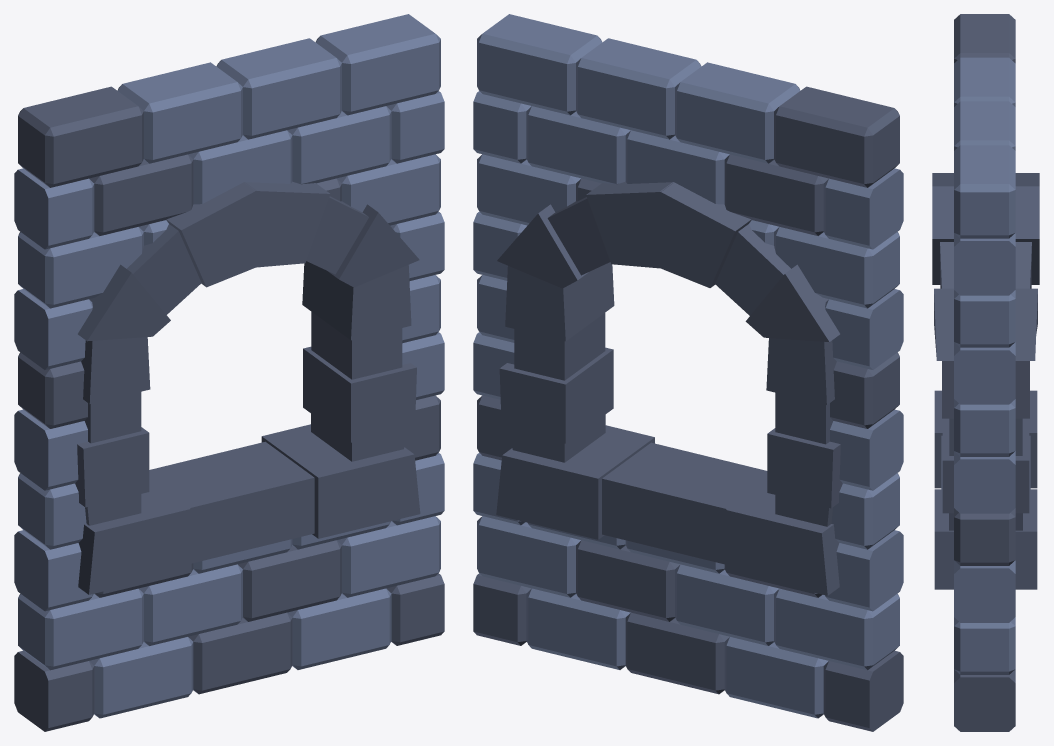
Rendered from window.fbx.
3 views of the same model, side by side, from view 1: azimuth 30°, elevation 25°; view 2: azimuth 150°, elevation 25°; view 3: azimuth 270°, elevation 25° (orthographic). The views are drawn at different scales.
Visible parts, largest first — view 1: window; view 2: window; view 3: window.
Part boxes in pixels (bbox=[...]): window: bbox=[14, 14, 444, 731]; window: bbox=[473, 14, 903, 731]; window: bbox=[932, 14, 1039, 731].
Size of the model in its own units: 200 by 291 by 51.91.
